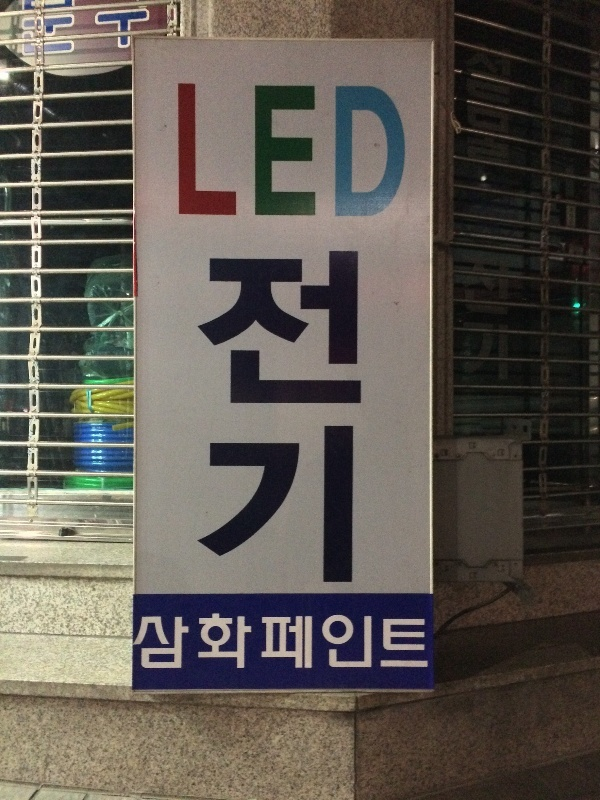text: (193, 247, 208, 587), (209, 247, 224, 587), (225, 247, 240, 587), (241, 247, 256, 587), (257, 247, 272, 587), (273, 247, 288, 587), (289, 247, 304, 587), (305, 247, 320, 587), (321, 247, 336, 587), (337, 247, 352, 587), (353, 247, 367, 587), (177, 79, 192, 225), (193, 79, 208, 225), (209, 79, 224, 225), (225, 79, 240, 225), (241, 79, 256, 225), (257, 79, 272, 225), (273, 79, 288, 225), (289, 79, 304, 225), (305, 79, 320, 225), (321, 79, 336, 225), (337, 79, 352, 225), (353, 79, 368, 225), (369, 79, 384, 225), (385, 79, 400, 225), (497, 38, 513, 168), (465, 249, 480, 385), (481, 249, 496, 385), (481, 38, 496, 168), (497, 249, 511, 385), (466, 38, 480, 168), (145, 609, 160, 678), (161, 609, 176, 678), (177, 609, 192, 678), (193, 609, 208, 678), (209, 609, 224, 678), (225, 609, 240, 678), (401, 79, 408, 225), (241, 609, 255, 678), (273, 614, 288, 674), (289, 614, 304, 674), (305, 614, 320, 674), (321, 614, 336, 674), (337, 614, 352, 674), (353, 614, 368, 674), (369, 614, 384, 674), (385, 614, 400, 674), (401, 614, 416, 674), (33, 1, 48, 54), (49, 1, 64, 54), (417, 614, 430, 674), (261, 614, 272, 674), (97, 11, 112, 50), (113, 11, 128, 50), (129, 11, 144, 50), (137, 609, 144, 678), (23, 1, 32, 54), (65, 1, 74, 54), (461, 249, 464, 385), (174, 79, 176, 225), (577, 241, 592, 258), (145, 11, 151, 50), (577, 261, 590, 278), (91, 11, 96, 50), (568, 206, 576, 229), (569, 241, 576, 258), (570, 261, 576, 278), (593, 241, 595, 258)
